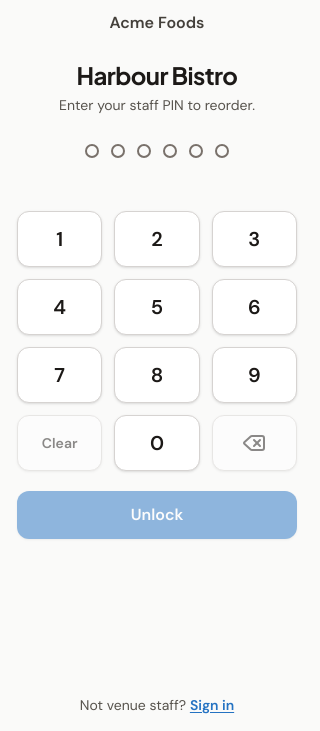
Test case: QrEntryScreen — the PIN › locks the pad and says when to come back
This screenshot has width=320, height=731.
Expected: the heading "Harbour Bistro" is shown, [77,59,238,91]
Click the button "1" at (60, 239), box [17,211,102,267]
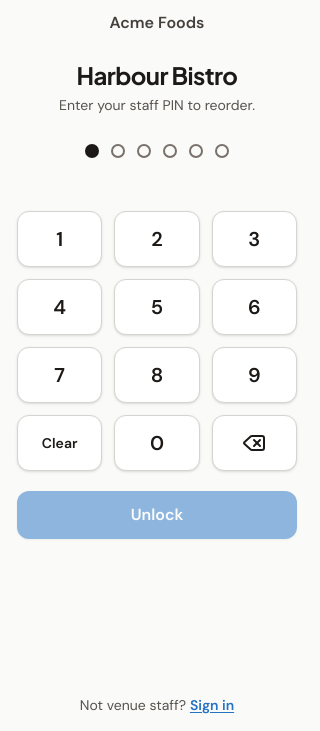
Click the button "3" at (254, 239), box [212,211,297,267]
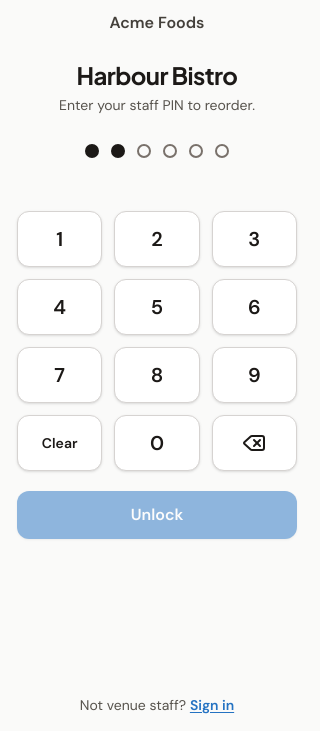
Click the button "5" at (157, 307), box [114,279,200,335]
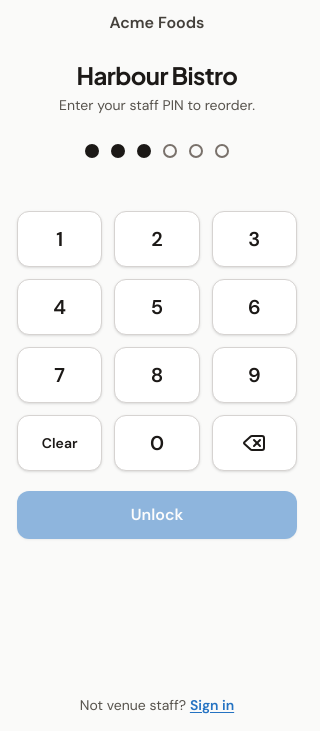
Click the button "7" at (60, 375), box [17,347,102,403]
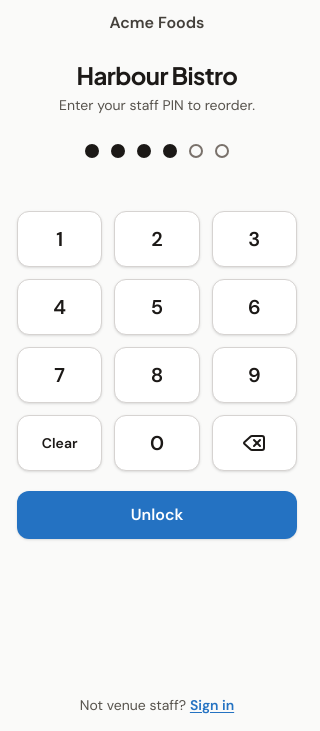
Click the button "Unlock" at (157, 515), box [17,491,297,539]
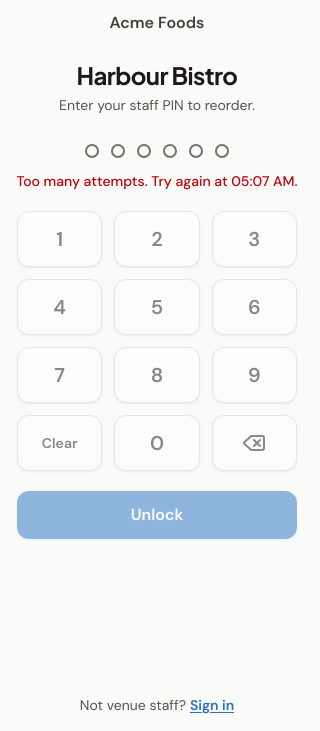
Now the text "Too many attempts. Try again at 05:07 AM." is shown, box [16,172,298,190]
Now the button "5" is disabled, box [114,279,200,335]
